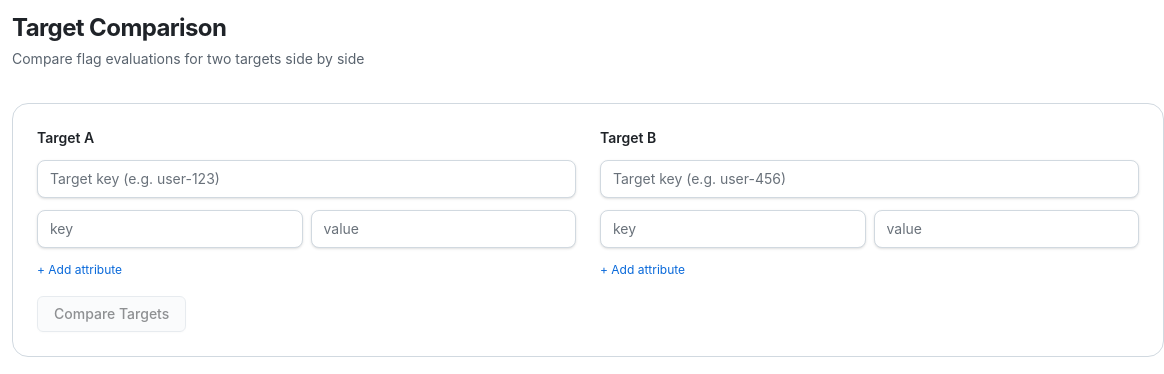
Scenario: TargetComparisonPage › shows loading during comparison
Type "user-a" into the field with placeholder "Target key (e.g. user-123)".
click(306, 179); type("user-a")  # box x1=37 y1=160 x2=576 y2=198
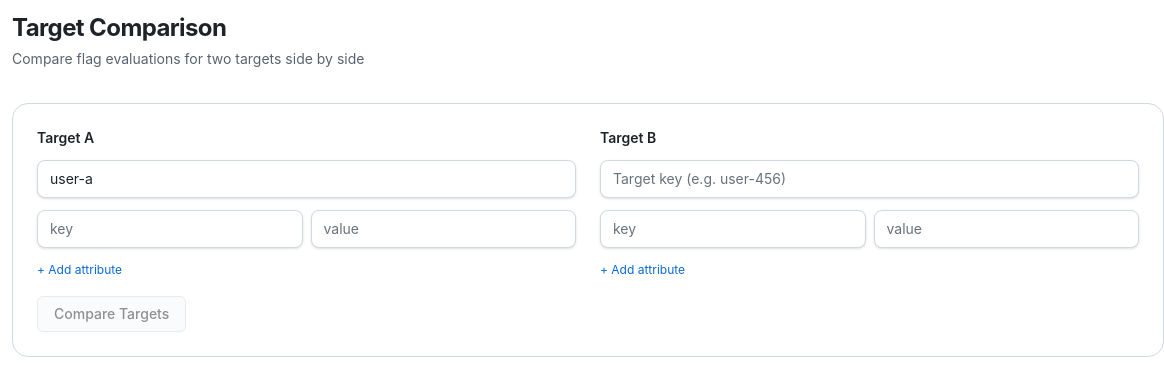
Type "user-b" into the field with placeholder "Target key (e.g. user-456)".
click(870, 179); type("user-b")  # box x1=600 y1=160 x2=1139 y2=198
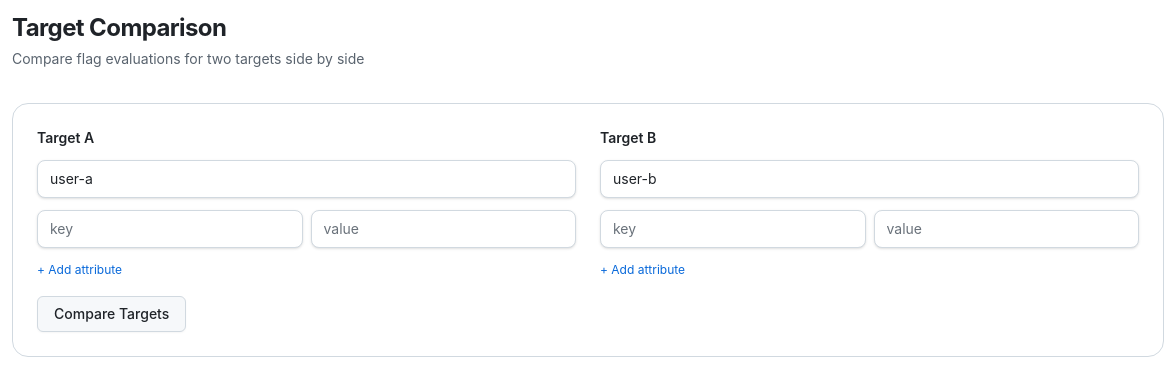
Click the button "Compare Targets".
click(112, 314)  # box x1=37 y1=296 x2=186 y2=332
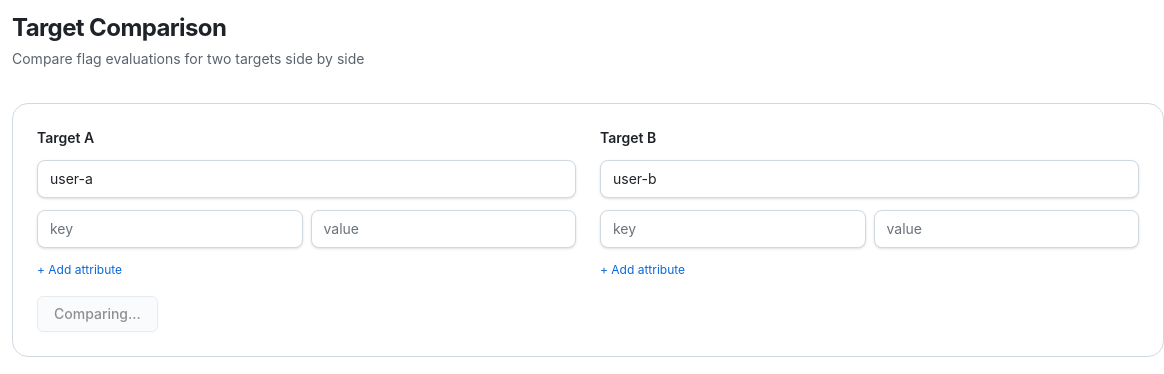
Expected: the button "Comparing..." is shown, x1=37 y1=296 x2=158 y2=332
